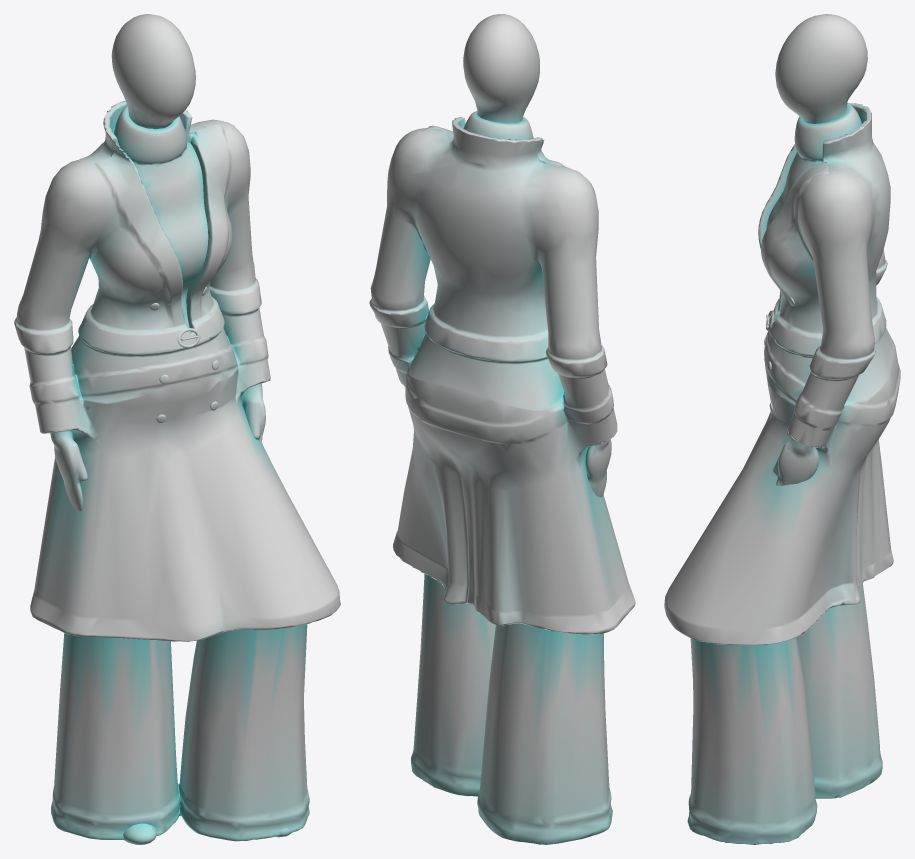
Rendered from mannequin-trench.glb.
3 renders of one model, left to right at view 1: azimuth 30°, elevation 25°; view 2: azimuth 150°, elevation 25°; view 3: azimuth 270°, elevation 25°, orthographic. The views are drawn at different scales.
Parts seen in each view (by area): view 1: trench, trousers, body, knit, trimDark; view 2: trench, trousers, body, knit; view 3: trench, trousers, body, knit.
Part boxes in pixels (x1,y1,x2,y2): trench: [14, 100, 340, 641]; trousers: [51, 405, 309, 841]; body: [50, 14, 291, 844]; knit: [114, 105, 208, 328]; trimDark: [149, 286, 219, 422]; trench: [369, 117, 635, 634]; trousers: [411, 573, 612, 844]; body: [463, 14, 611, 497]; knit: [463, 111, 533, 139]; trench: [664, 103, 900, 645]; trousers: [688, 583, 882, 844]; body: [687, 14, 867, 824]; knit: [766, 103, 861, 228].
Bounding box in the file's own units: 0.5961 × 1.8 × 0.4942.
